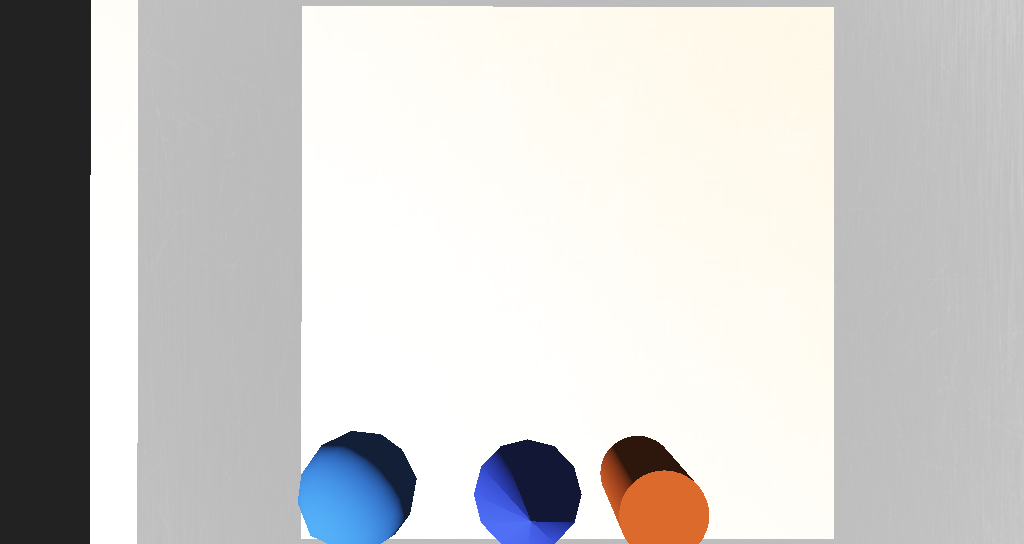cone: (529, 334, 576, 372)
cylinder: (455, 329, 515, 387)
sphere: (360, 332, 421, 375)
